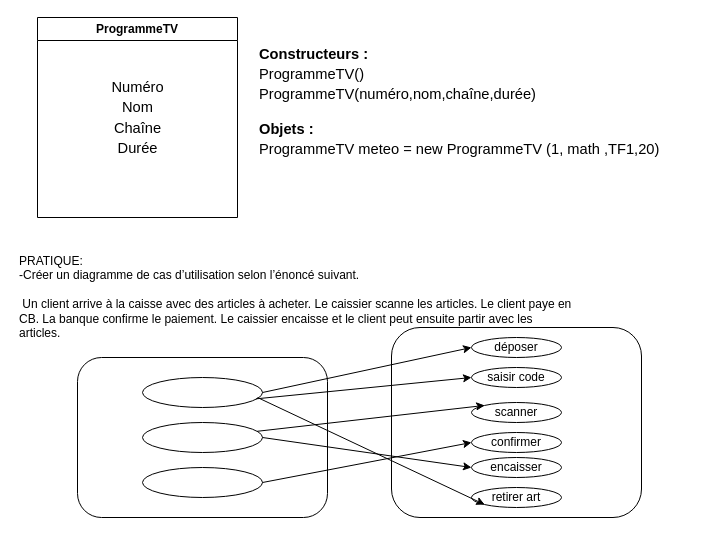
Image size: 704x535. Some labels were removed from this diagram. The centre of each missing label's shape, as x and y in pixels:
Banque: the point at 202,482
Caissier: the point at 202,437
Client: the point at 202,392
